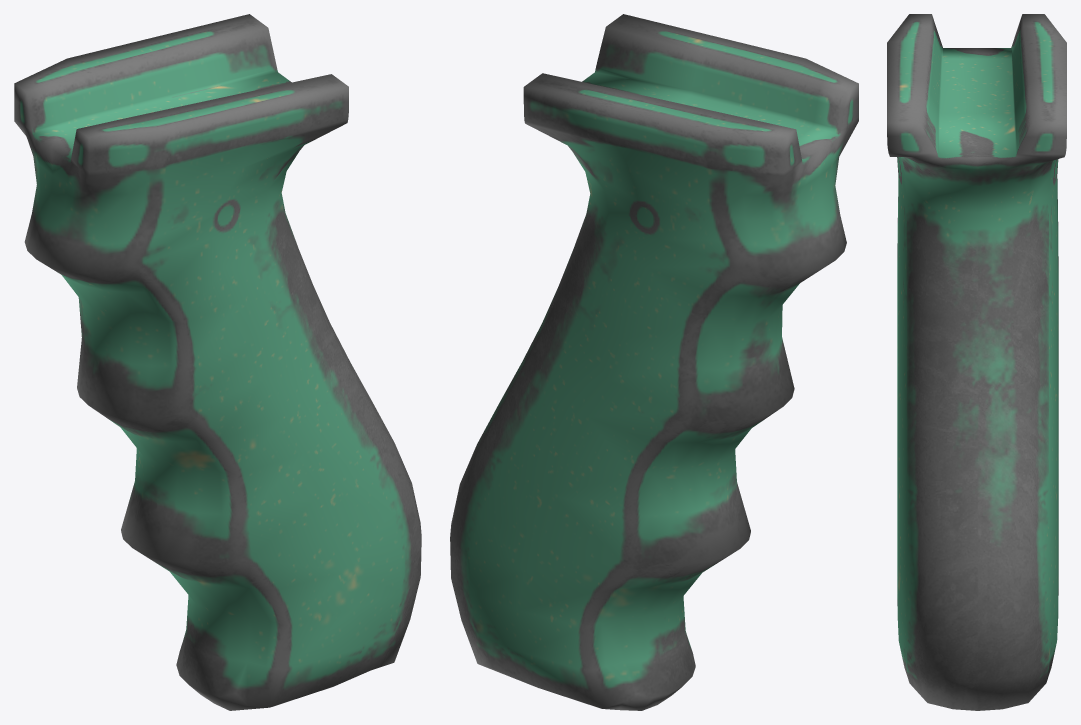
Rendered from Grip_1.fbx.
3 views of the same model, side by side, from view 1: azimuth 30°, elevation 25°; view 2: azimuth 150°, elevation 25°; view 3: azimuth 270°, elevation 25° (orthographic). The views are drawn at different scales.
Visible parts, largest first — view 1: Grip_1; view 2: Grip_1; view 3: Grip_1.
Part boxes in pixels (x1,y1,x2,y2): Grip_1: [14, 14, 421, 710]; Grip_1: [450, 14, 858, 710]; Grip_1: [887, 14, 1066, 710].
Size of the model in its own units: 0.0665 by 0.1053 by 0.0306.
